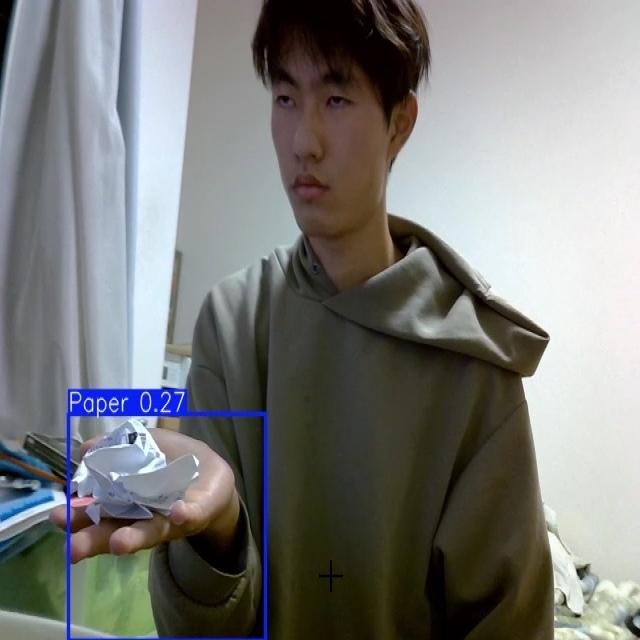paper: (70, 417, 199, 523)
